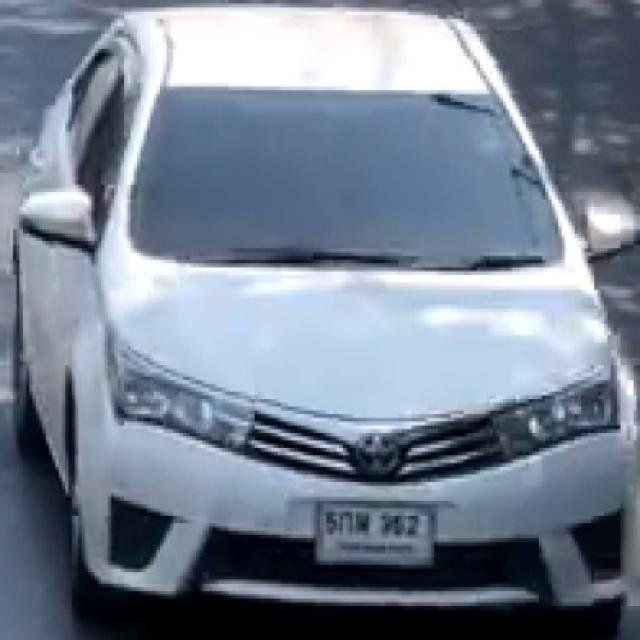plate: (316, 499, 435, 567)
